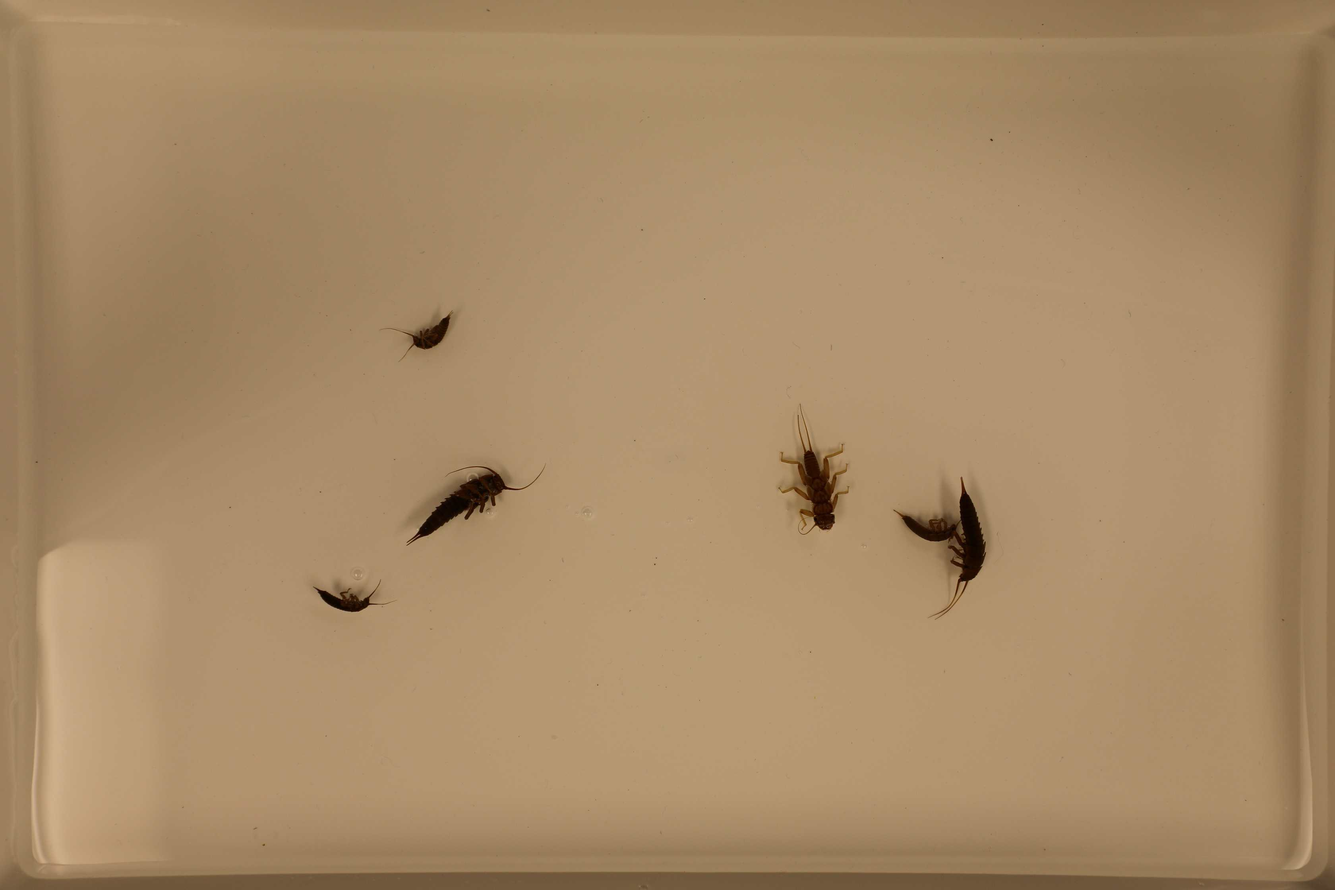Stonefly: (401, 457, 538, 553), (773, 405, 849, 555), (930, 479, 984, 626), (383, 305, 456, 376), (310, 576, 388, 614), (887, 502, 959, 542)
